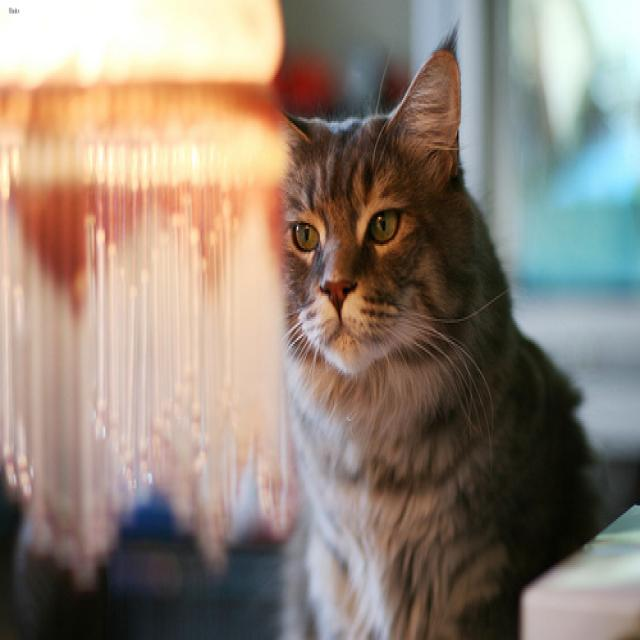Maine_Coon: (277, 46, 459, 371)
